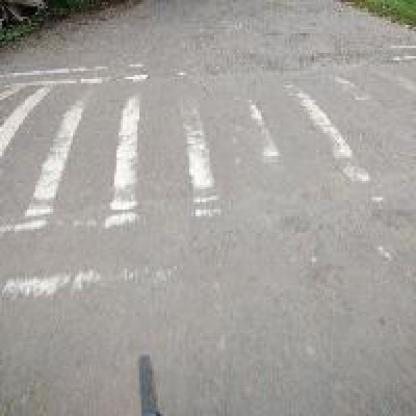Speed Bump: (2, 37, 414, 308)
